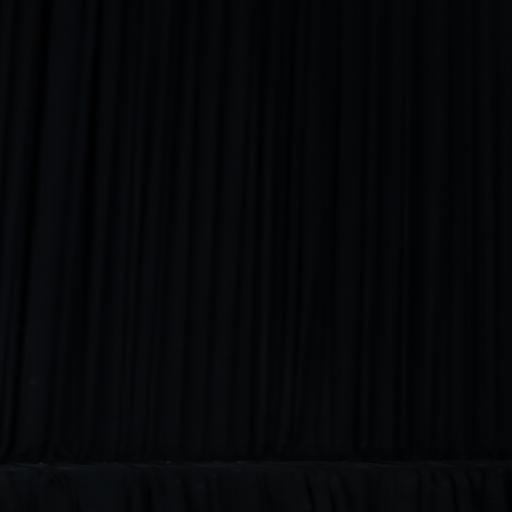nothing: (1, 4, 511, 508)
